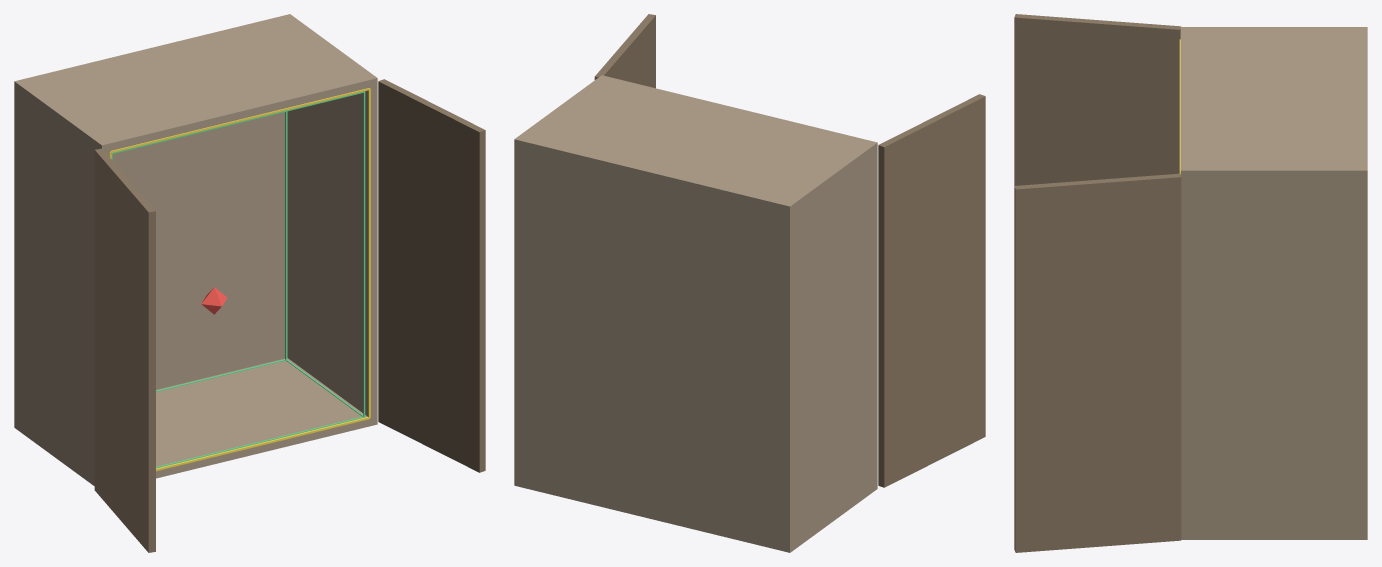
Rendered from HakoOnna_Pose_ChaTansu.glb.
3 views of the same model, side by side, from view 1: azimuth 30°, elevation 25°; view 2: azimuth 150°, elevation 25°; view 3: azimuth 270°, elevation 25° (orthographic). The views are drawn at different scales.
Visible parts, largest first — view 1: Shell, Open_Doors, SafeZone_1.5cm, Opening; view 2: Shell, Open_Doors; view 3: Shell, Open_Doors.
Boxes of the visible parts, x1,y1,x2,y2 form: Shell: (14, 14, 377, 485); Open_Doors: (94, 79, 485, 552); SafeZone_1.5cm: (111, 91, 365, 468); Opening: (109, 88, 370, 471); Shell: (514, 75, 877, 552); Open_Doors: (594, 14, 985, 487); Shell: (1180, 27, 1367, 539); Open_Doors: (1014, 14, 1181, 552).
Size of what is drawn, in the model's own units: 1.53 by 1.5 by 1.3.
